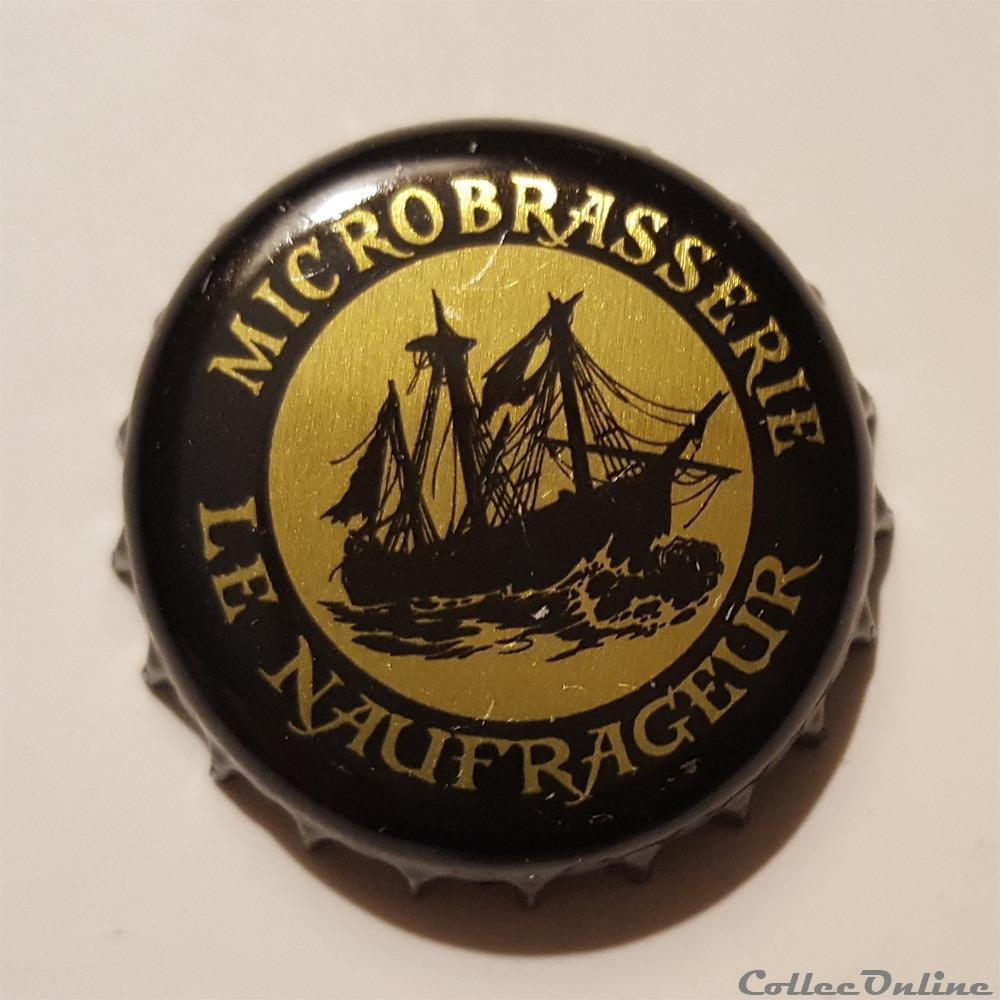metal: (114, 120, 886, 898)
